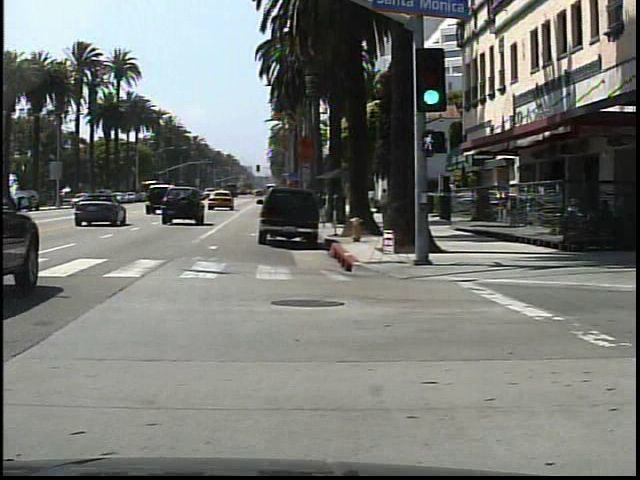person: (378, 185, 391, 227)
